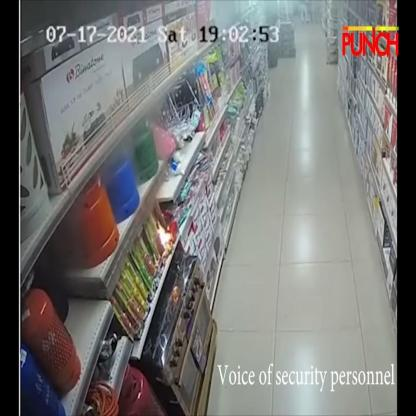fire: (157, 220, 171, 244)
